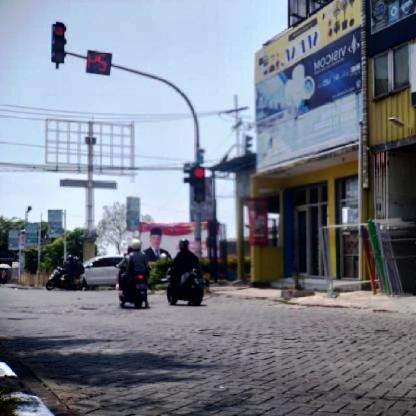Traffic Light -Red-: (51, 22, 67, 64), (193, 166, 204, 203)
